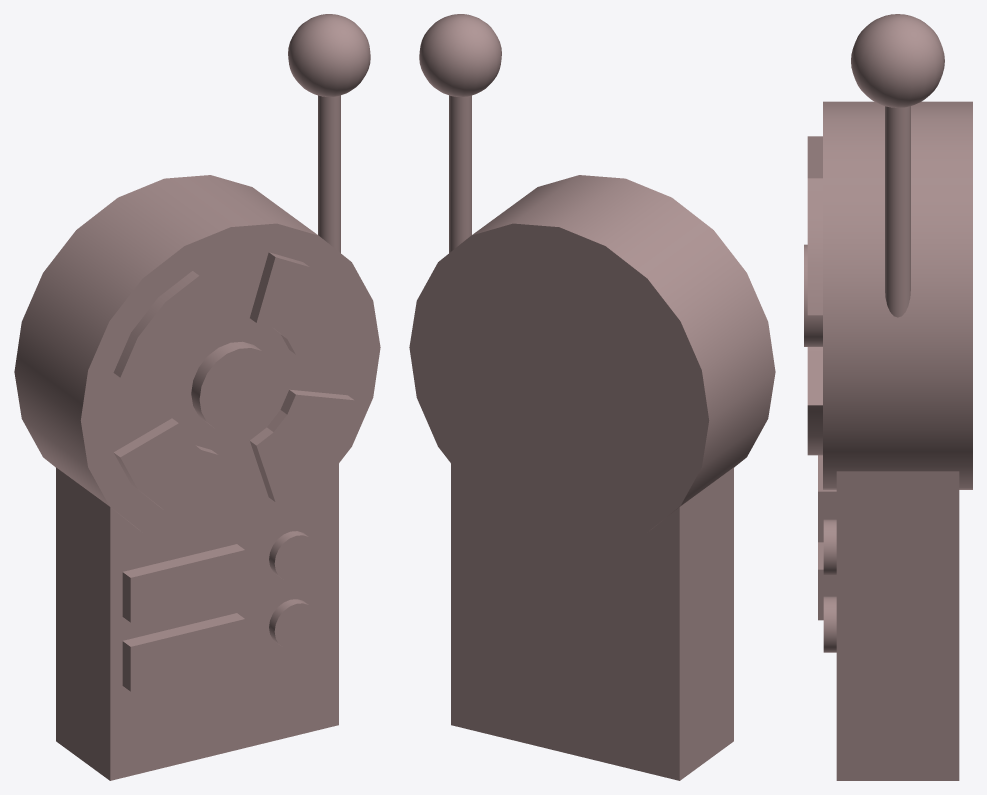
Rendered from dyn_gadget_shufflecoloursblockout.fbx.
3 views of the same model, side by side, from view 1: azimuth 30°, elevation 25°; view 2: azimuth 150°, elevation 25°; view 3: azimuth 270°, elevation 25° (orthographic). The views are drawn at different scales.
Parts seen in each view (by area): view 1: pCylinder1, pCube1, pCylinder5, pCube3, pCube2, pCylinder4, pSphere1, pCylinder6, pCylinder3, pCylinder2; view 2: pCylinder1, pCube1, pSphere1, pCylinder6; view 3: pCylinder1, pCube1, pSphere1, pCylinder6, pCylinder5, pCylinder4, pCube2, pCylinder3, pCylinder2, pCube3.
Boxes of the visible parts, <box> form: pCylinder1: <box>14,175,380,544</box>; pCube1: <box>56,464,338,780</box>; pCylinder5: <box>113,252,354,520</box>; pCube3: <box>122,613,244,691</box>; pCube2: <box>122,544,244,622</box>; pCylinder4: <box>191,341,278,432</box>; pSphere1: <box>288,14,370,96</box>; pCylinder6: <box>318,95,340,252</box>; pCylinder3: <box>269,599,317,649</box>; pCylinder2: <box>269,531,317,581</box>; pCylinder1: <box>409,175,775,544</box>; pCube1: <box>451,464,733,780</box>; pSphere1: <box>419,14,501,96</box>; pCylinder6: <box>449,95,471,252</box>; pCylinder1: <box>823,101,972,489</box>; pCube1: <box>836,471,959,780</box>; pSphere1: <box>851,14,944,107</box>; pCylinder6: <box>885,106,910,317</box>; pCylinder5: <box>807,136,822,455</box>; pCylinder4: <box>804,244,822,346</box>; pCube2: <box>818,455,836,542</box>; pCylinder3: <box>823,596,836,652</box>; pCylinder2: <box>823,519,836,575</box>; pCube3: <box>818,542,836,620</box>.
Bounding box in the file's own units: 12.7 × 26.08 × 5.17.
